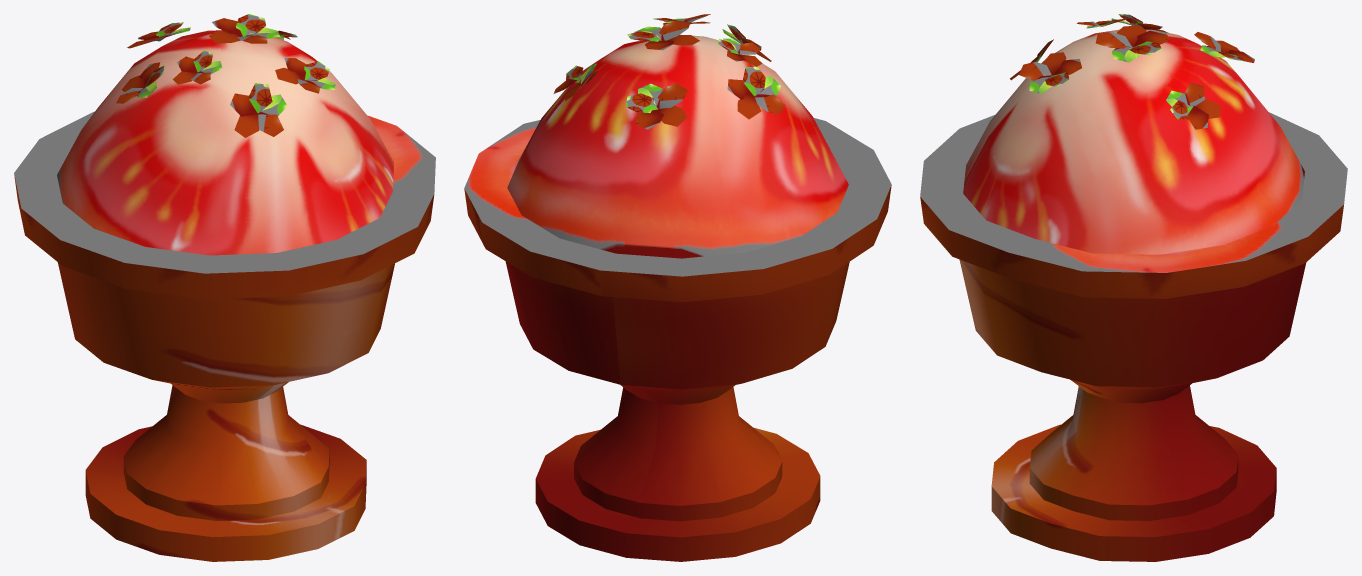
Rendered from decor_7.fbx.
3 views of the same model, side by side, from view 1: azimuth 30°, elevation 25°; view 2: azimuth 150°, elevation 25°; view 3: azimuth 270°, elevation 25° (orthographic).
Visible parts, largest first — view 1: Plane.009, Plane.006 low; view 2: Plane.009, Plane.006 low; view 3: Plane.009, Plane.006 low.
Part boxes in pixels (x1,y1,x2,y2): Plane.009: (14,111,435,561); Plane.006 low: (57,14,393,255); Plane.009: (464,117,891,561); Plane.006 low: (507,14,848,258); Plane.009: (920,112,1347,561); Plane.006 low: (963,14,1304,254).
Bounding box in the file's own units: 1.18 × 1.43 × 1.18.
